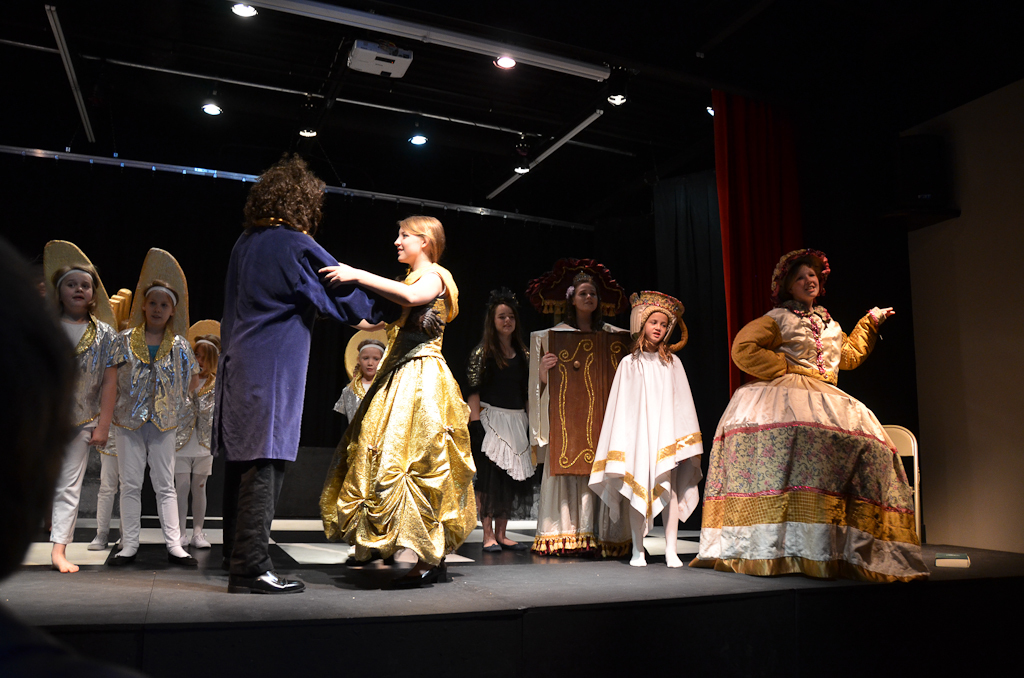Person: (0, 152, 928, 592)
